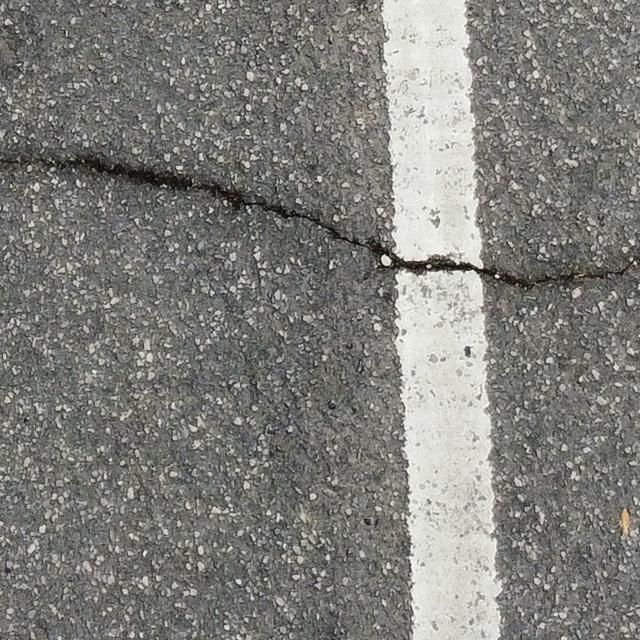TransverseCrack: (3, 155, 640, 291)
